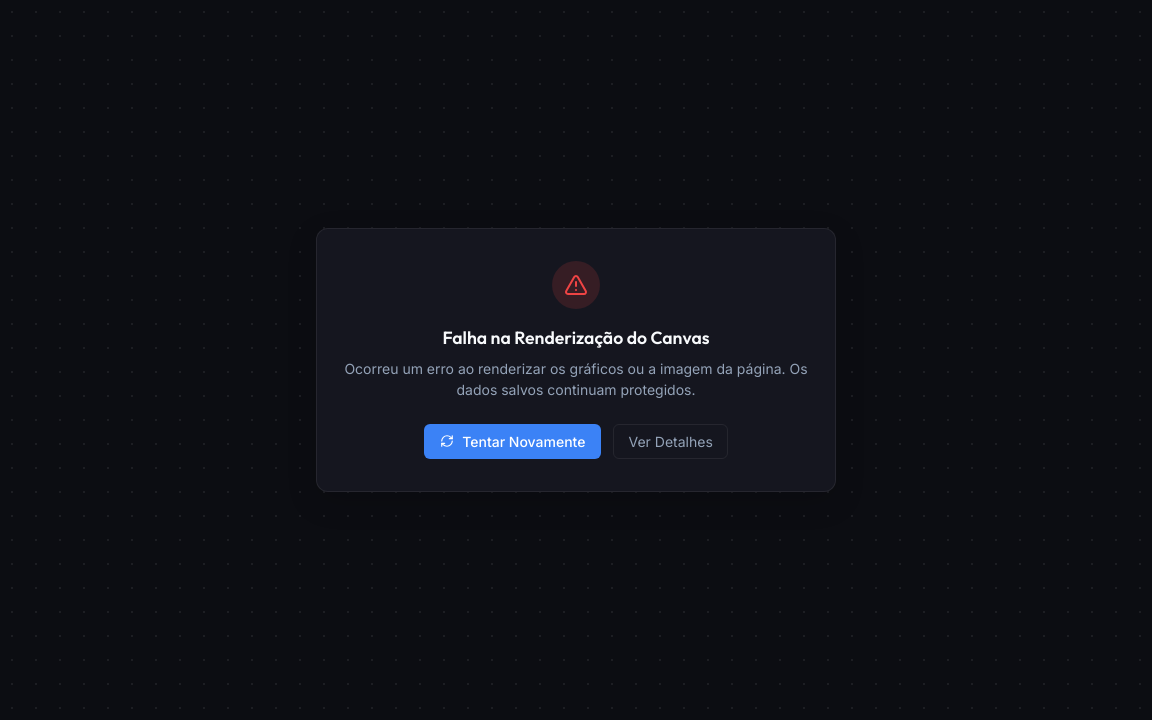
Test: CanvasErrorBoundary › catches runtime rendering exceptions and presents fallback UI with error details
expect the heading "Falha na Renderização do Canvas" is shown: met, box x1=442 y1=326 x2=710 y2=349
// Toggle details
Click the button "Ver Detalhes" at coordinates (671, 441), box x1=614 y1=424 x2=728 y2=459
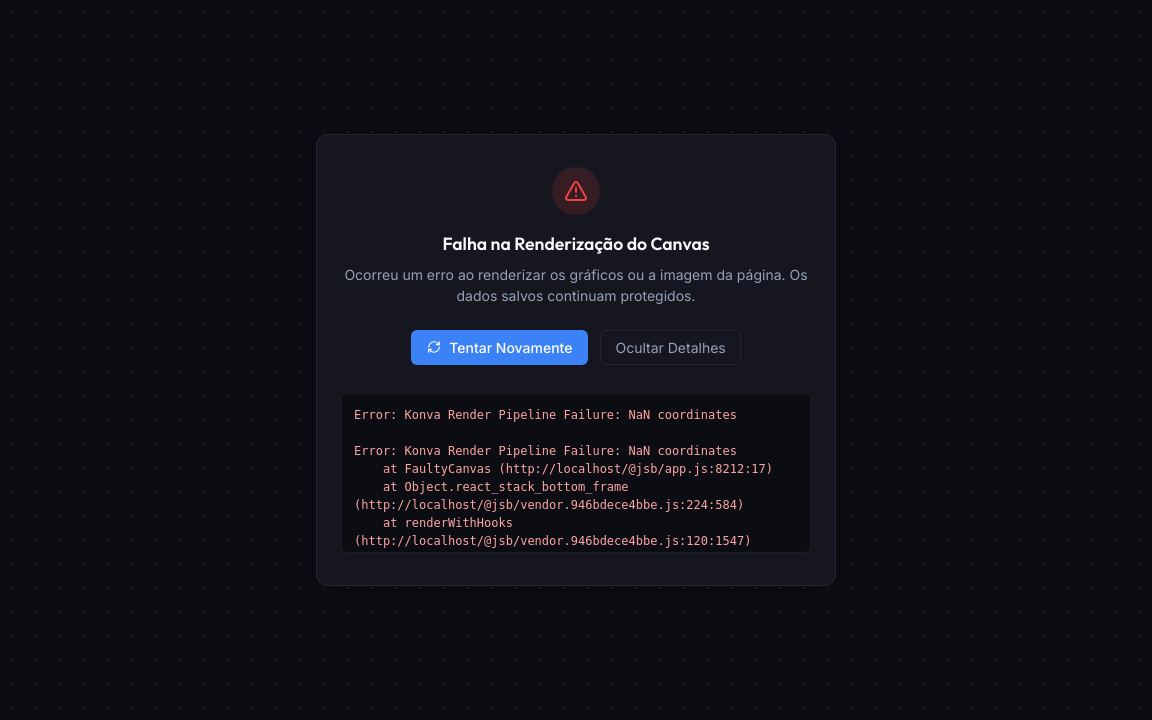
expect the text "Konva Render Pipeline Failure" is shown: met, box x1=354 y1=408 x2=737 y2=422
expect the button "Ocultar Detalhes" is shown: met, box x1=600 y1=330 x2=741 y2=365
